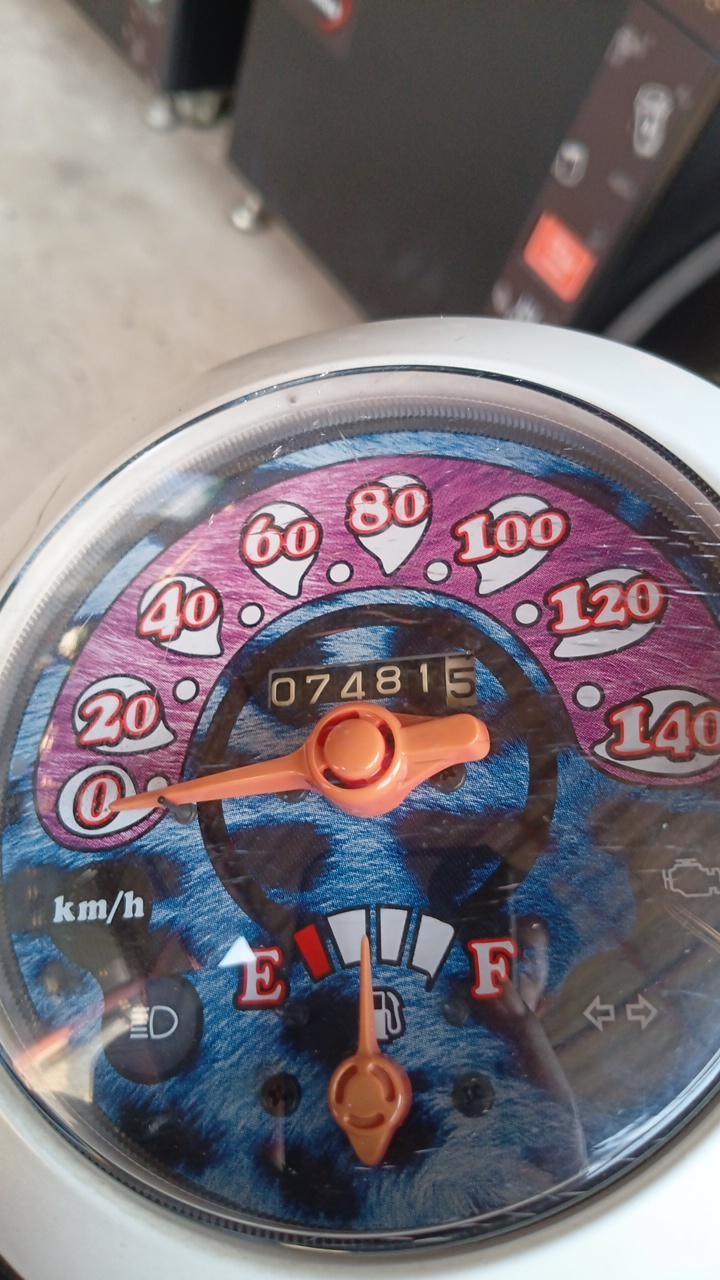0: (271, 676, 296, 708)
1: (419, 662, 430, 694)
4: (340, 669, 366, 702)
5: (448, 664, 476, 699)
7: (303, 673, 332, 707)
8: (375, 665, 402, 696)
odometer: (267, 650, 481, 715)
